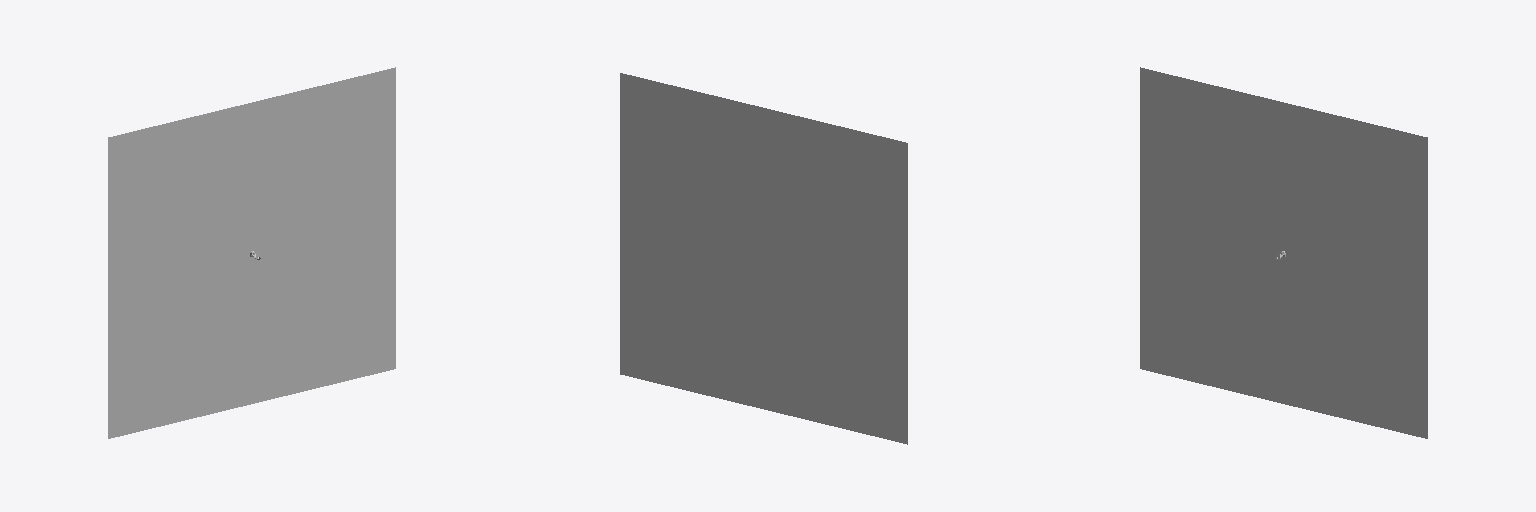
The model's file is Temi.obj.
The picture shows the model from 3 angles: view 1: azimuth 30°, elevation 25°; view 2: azimuth 150°, elevation 25°; view 3: azimuth 330°, elevation 25°; orthographic projection.
Visible parts, largest first — view 1: obj8; view 2: obj8; view 3: obj8.
Boxes of the visible parts, <box> form: obj8: <box>108,67,395,438</box>; obj8: <box>620,73,907,444</box>; obj8: <box>1140,67,1427,438</box>.
Size of the model in its own units: 20.72 by 20.72 by 0.9317.